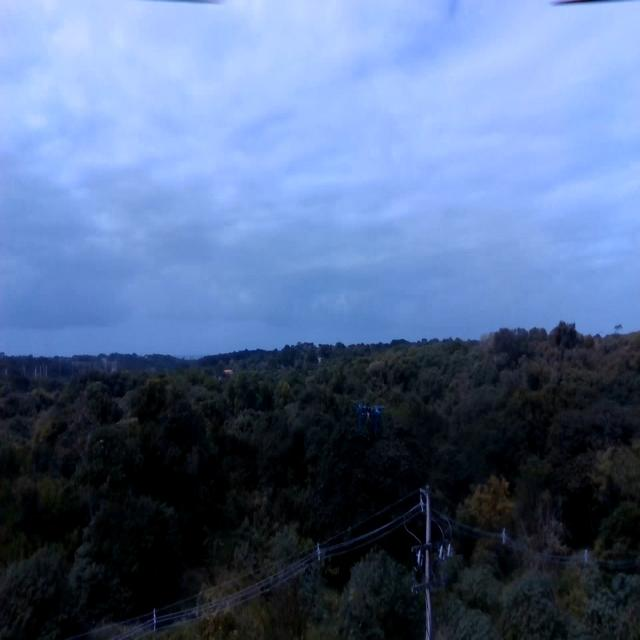-uav-: (351, 400, 386, 452)
